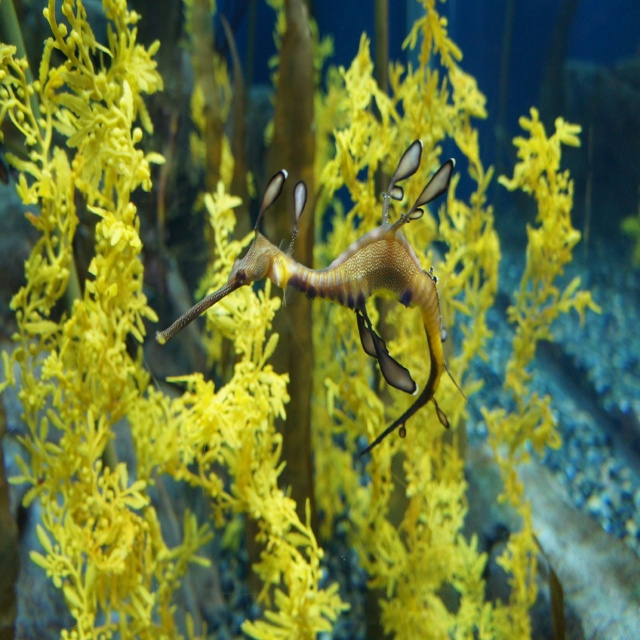Seahorse: (155, 139, 471, 460)
